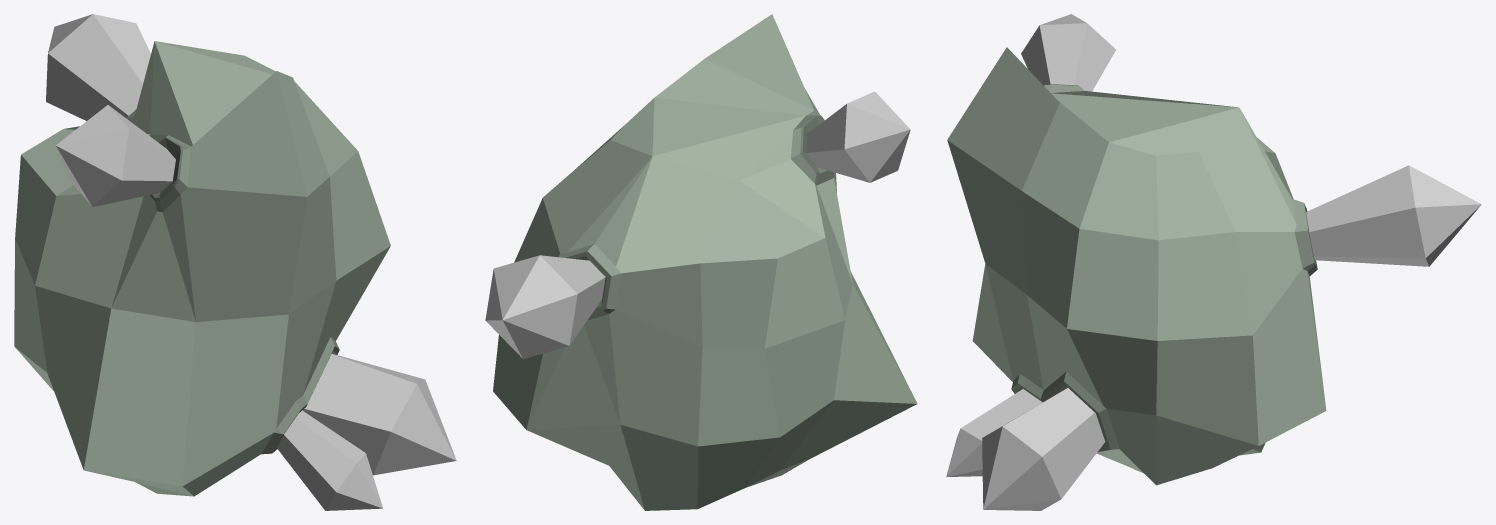
Rendered from Aestroid3.FBX.
The picture shows the model from 3 angles, left to right: view 1: azimuth 30°, elevation 25°; view 2: azimuth 150°, elevation 25°; view 3: azimuth 270°, elevation 25°; orthographic projection. The views are drawn at different scales.
Parts seen in each view (by area): view 1: Aestroid3; view 2: Aestroid3; view 3: Aestroid3.
Boxes of the visible parts, <box> form: Aestroid3: <box>14,14,456,510</box>; Aestroid3: <box>485,14,917,510</box>; Aestroid3: <box>946,14,1481,510</box>.
Bounding box in the file's own units: 2.17 × 2.6 × 3.04.
